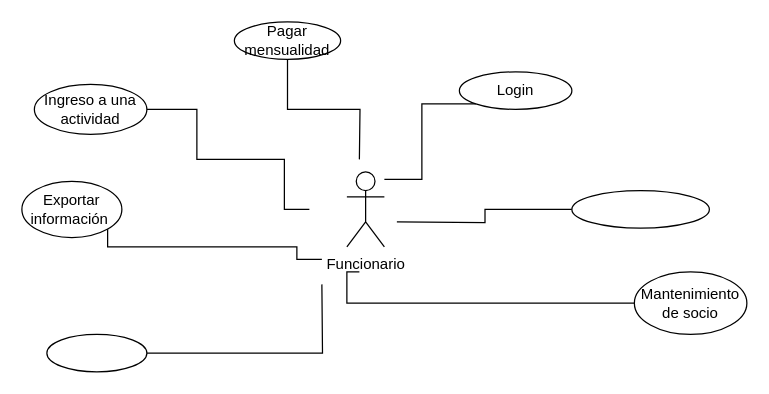
This 769x394 diagram has some shape labels left out. The centre of each missing label's shape, as x and y in pixels:
"Logout" belongs at (x=96, y=352).
"Registro de usuario" belongs at (x=640, y=208).
